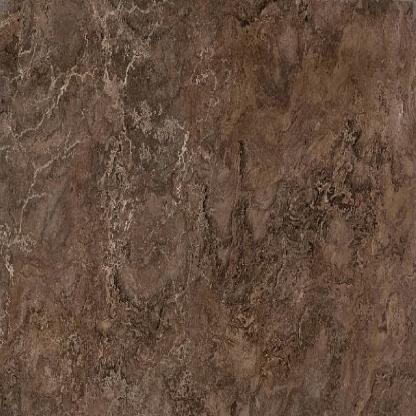Metamorphic_Marble: (0, 4, 414, 415)
